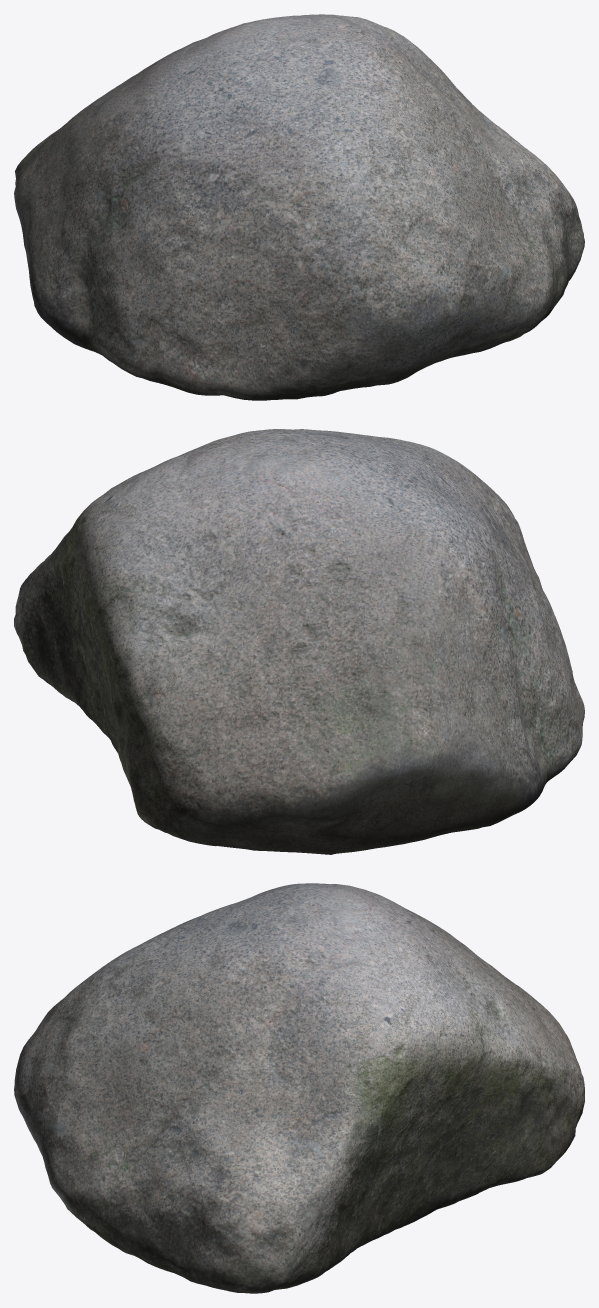
The model's file is boulder2.glb.
3 renders of one model, top to bottom at view 1: azimuth 30°, elevation 25°; view 2: azimuth 150°, elevation 25°; view 3: azimuth 270°, elevation 25°, orthographic. The views are drawn at different scales.
Parts seen in each view (by area): view 1: Stone5ok17_001; view 2: Stone5ok17_001; view 3: Stone5ok17_001.
Part boxes in pixels (box(x1,y1,x2,y2)): Stone5ok17_001: box(14, 14, 584, 400); Stone5ok17_001: box(14, 429, 584, 854); Stone5ok17_001: box(14, 883, 584, 1293).
Size of the model in its own units: 1.41 by 0.7291 by 1.4.
Materials: 1 (1 with a texture image).
